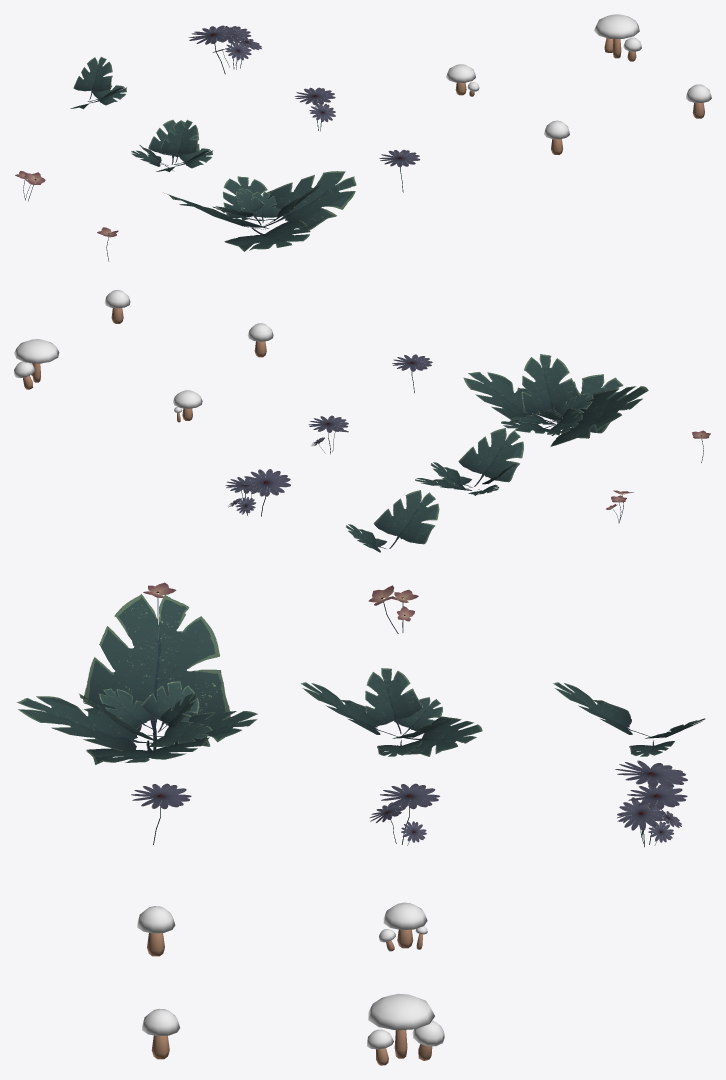
The model's file is flora.fbx.
3 renders of one model, top to bottom at view 1: azimuth 30°, elevation 25°; view 2: azimuth 150°, elevation 25°; view 3: azimuth 270°, elevation 25°, orthographic. The views are drawn at different scales.
Visible parts, largest first — view 1: leaf.003, leaf.002, leaf.011, leaf.014, Sphere.011, leaf, leaf.001, leaf.015, leaf.007, leaf.009, Sphere.016; view 2: leaf.004, leaf.006, leaf.012, leaf.001, leaf.003, Sphere.011, leaf.002, leaf.008, leaf.005, leaf, Sphere.016; view 3: leaf.001, leaf.002, leaf.017, Sphere.011, leaf.015, leaf.003, leaf.006, leaf, leaf.012, leaf.005, leaf.008, Sphere.016 (+4 smaller).
Boxes of the visible parts, left/top/right/bottom form: leaf.003: left=263, top=171, right=356, bottom=229; leaf.002: left=224, top=219, right=310, bottom=251; leaf.011: left=73, top=56, right=112, bottom=100; leaf.014: left=161, top=119, right=198, bottom=163; Sphere.011: left=594, top=14, right=639, bottom=38; leaf: left=223, top=176, right=267, bottom=225; leaf.001: left=163, top=192, right=268, bottom=229; leaf.015: left=148, top=119, right=199, bottom=164; leaf.007: left=252, top=191, right=282, bottom=222; leaf.009: left=236, top=188, right=264, bottom=216; Sphere.016: left=446, top=64, right=475, bottom=82; leaf.004: left=521, top=354, right=580, bottom=423; leaf.006: left=373, top=490, right=439, bottom=548; leaf.012: left=458, top=428, right=523, bottom=486; leaf.001: left=550, top=386, right=648, bottom=446; leaf.003: left=463, top=372, right=555, bottom=424; Sphere.011: left=14, top=339, right=59, bottom=363; leaf.002: left=540, top=374, right=626, bottom=435; leaf.008: left=547, top=407, right=582, bottom=435; leaf.005: left=553, top=393, right=593, bottom=419; leaf: left=501, top=420, right=561, bottom=433; Sphere.016: left=173, top=390, right=202, bottom=408; leaf.001: left=83, top=594, right=230, bottom=750; leaf.002: left=16, top=696, right=151, bottom=751; leaf.017: left=365, top=668, right=423, bottom=733; Sphere.011: left=368, top=993, right=434, bottom=1030; leaf.015: left=404, top=716, right=482, bottom=756; leaf.003: left=86, top=737, right=209, bottom=764; leaf.006: left=553, top=682, right=650, bottom=736; leaf: left=154, top=711, right=257, bottom=747; leaf.012: left=301, top=682, right=397, bottom=736; leaf.005: left=99, top=688, right=156, bottom=731; leaf.008: left=141, top=681, right=199, bottom=732; Sphere.016: left=383, top=902, right=427, bottom=930.
Bounding box in the file's own units: 847 × 83.34 × 562.
